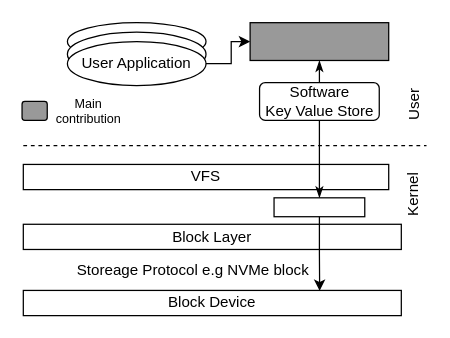
This 450x338 diagram has some shape labels left out. The shapes that lost their labels are listed below. From the top down, each one's centre as x and y in pixels, then its label:
point 319,40: KVFS
point 319,207: File system
